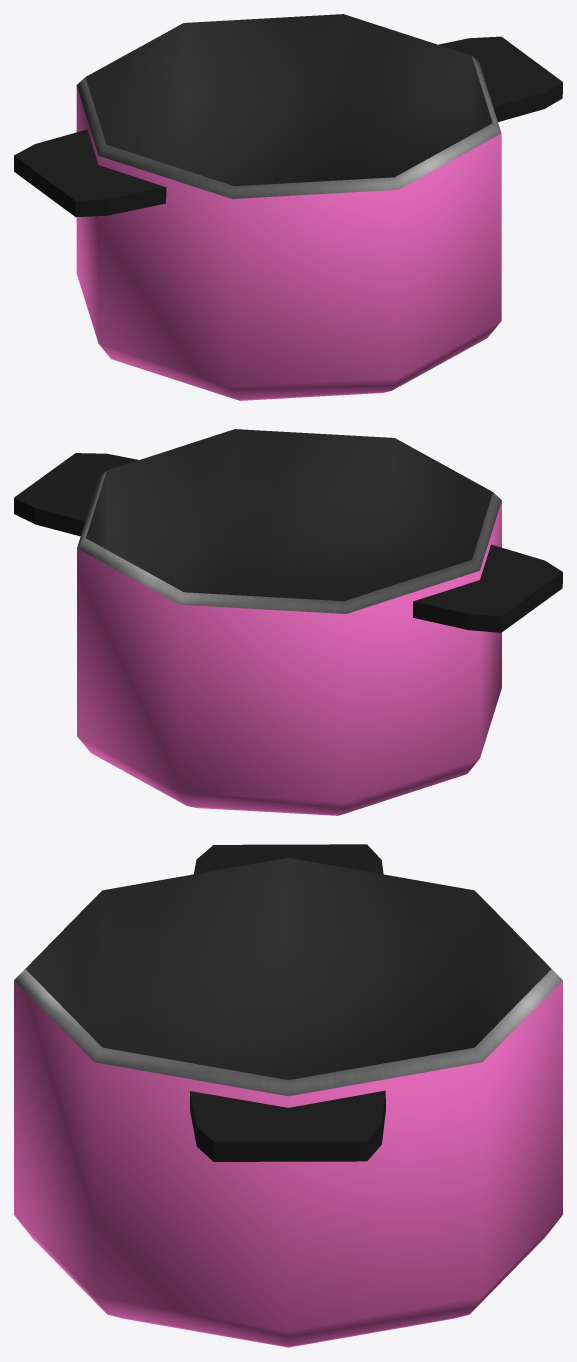
Rendered from Cooking_Pot_I.FBX.
3 renders of one model, top to bottom at view 1: azimuth 30°, elevation 25°; view 2: azimuth 150°, elevation 25°; view 3: azimuth 270°, elevation 25°, orthographic. The views are drawn at different scales.
Visible parts, largest first — view 1: Cooking_Pot; view 2: Cooking_Pot; view 3: Cooking_Pot.
Part boxes in pixels (left/top/right/bottom): Cooking_Pot: left=14, top=14, right=562, bottom=400; Cooking_Pot: left=14, top=429, right=562, bottom=815; Cooking_Pot: left=14, top=844, right=562, bottom=1347.
Bounding box in the file's own units: 102 × 45 × 80.
